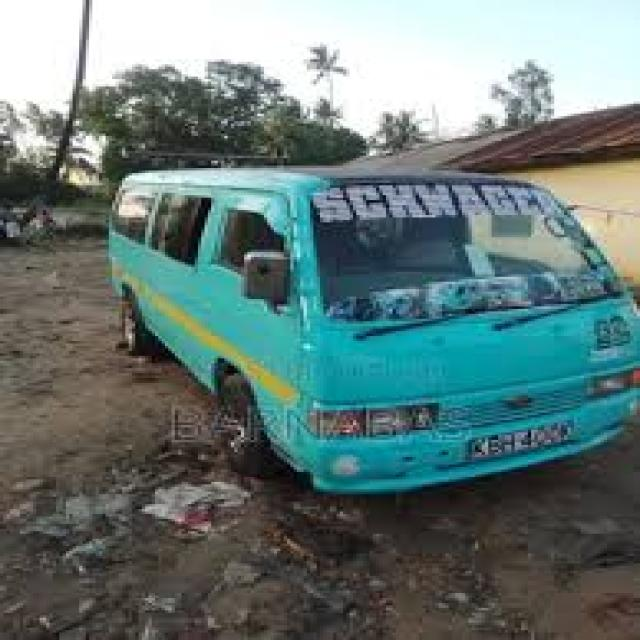matatu: (81, 129, 640, 499)
